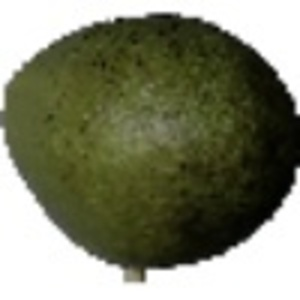abacate: (1, 12, 297, 270)
